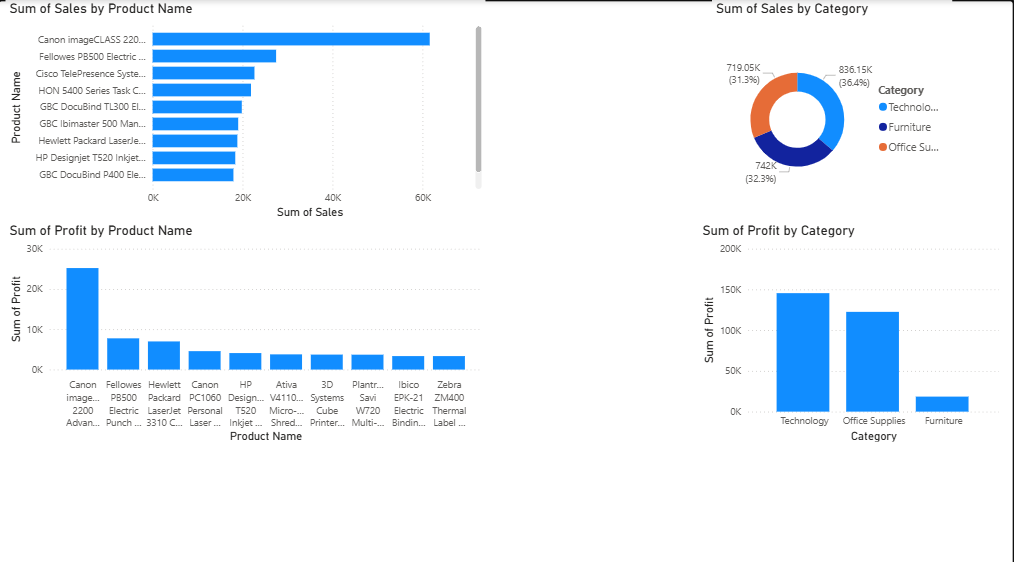

The page's visual inventory and layout, read from the dashboard file:
{"tool":"powerbi","page":{"name":"Product Analysis","canvas":[1280,720],"ordinal":1},"visuals":[{"type":"clusteredBarChart","fields":{"Category":["Sample - Superstore.Product Name"],"Y":["Sum(Sample - Superstore.Sales)"]},"box":[9.4,0,525.4,279.7],"z":0},{"type":"donutChart","fields":{"Category":["Sample - Superstore.Category"],"Y":["Sum(Sample - Superstore.Sales)"]},"box":[922.2,0,279.7,281.6],"z":1000},{"type":"clusteredColumnChart","fields":{"Category":["Sample - Superstore.Category"],"Y":["Sum(Sample - Superstore.Profit)"]},"box":[899.5,279.7,366.6,281.6],"z":2000},{"type":"clusteredColumnChart","fields":{"Category":["Sample - Superstore.Product Name"],"Y":["Sum(Sample - Superstore.Profit)"]},"box":[9.4,279.7,525.4,281.6],"z":3000}]}

Visuals, with their boxes in screenshot pixels (x1, y1, x2, y2), scaled from the page's 1280x720 canvas onto the 1014x562 screenshot:
clusteredBarChart - Sample - Superstore.Product Name x Sum(Sample - Superstore.Sales): 7/0/424/218
donutChart - Sample - Superstore.Category x Sum(Sample - Superstore.Sales): 731/0/952/220
clusteredColumnChart - Sample - Superstore.Category x Sum(Sample - Superstore.Profit): 713/218/1003/438
clusteredColumnChart - Sample - Superstore.Product Name x Sum(Sample - Superstore.Profit): 7/218/424/438
